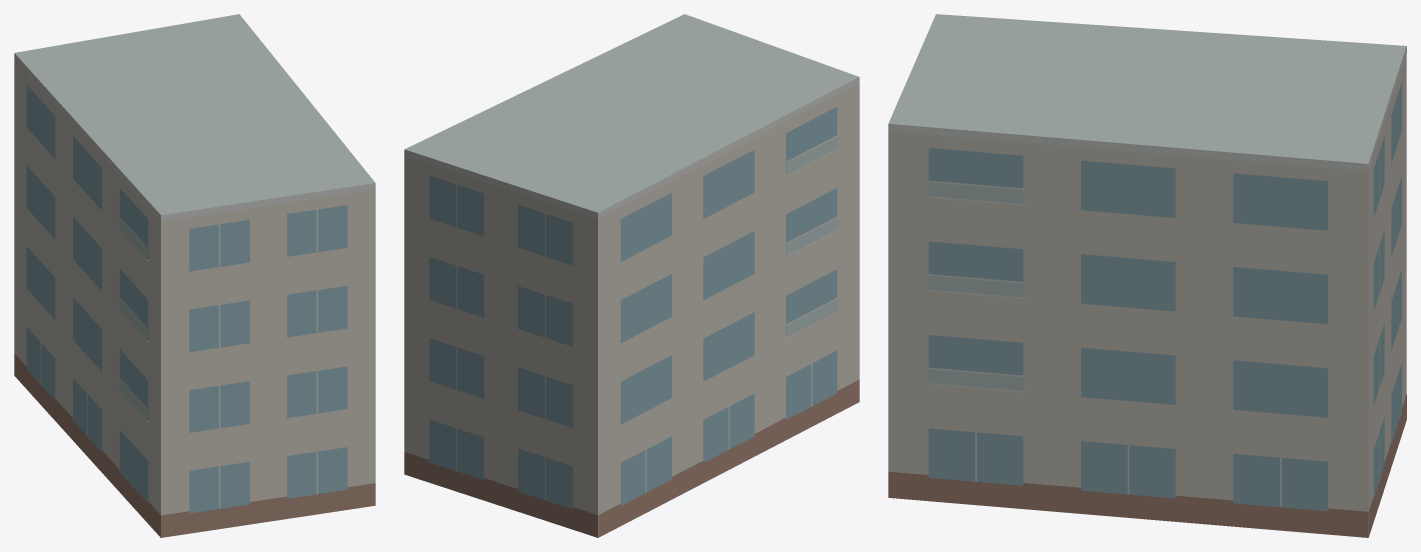
Rendered from survey-upis-32504072.glb.
3 renders of one model, left to right at view 1: azimuth 30°, elevation 25°; view 2: azimuth 150°, elevation 25°; view 3: azimuth 270°, elevation 25°, orthographic. The views are drawn at different scales.
Visible parts, largest first — view 1: survey-upis-32504072.tmp; view 2: survey-upis-32504072.tmp; view 3: survey-upis-32504072.tmp.
Boxes of the visible parts, x1,y1,x2,y2 form: survey-upis-32504072.tmp: (14,14,375,537); survey-upis-32504072.tmp: (404,14,859,537); survey-upis-32504072.tmp: (888,14,1406,537).
Size of the model in its own units: 10.5 by 12.2 by 15.34.
